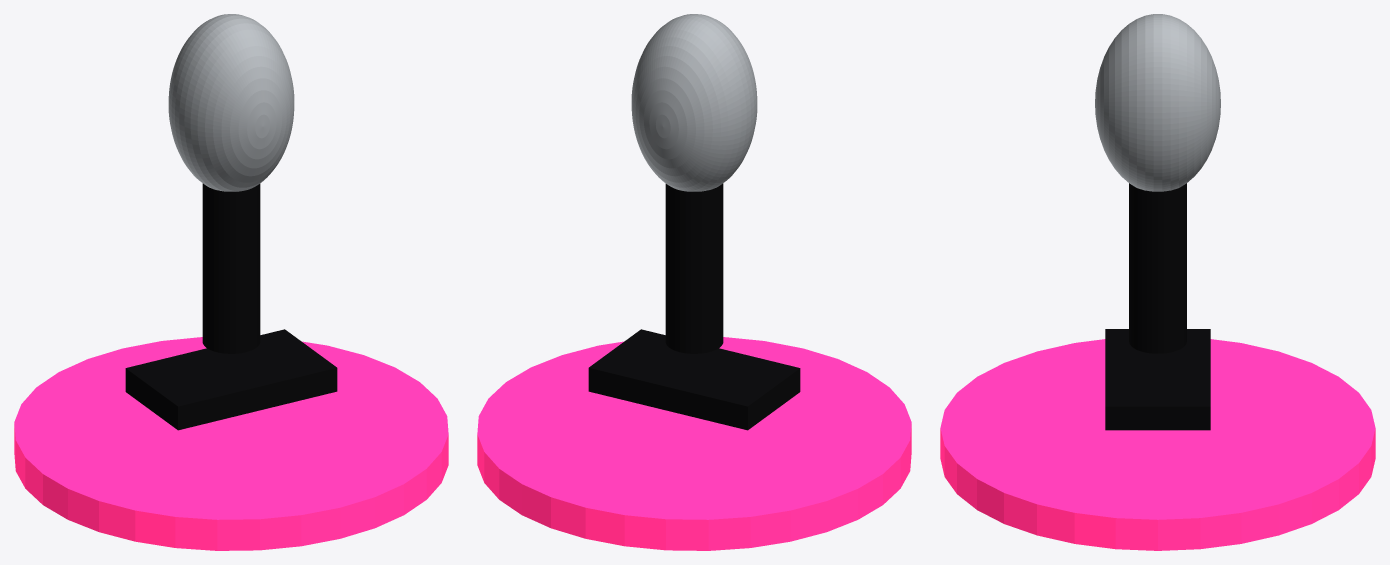
The model's file is music_microphone.dae.
3 views of the same model, side by side, from view 1: azimuth 30°, elevation 25°; view 2: azimuth 150°, elevation 25°; view 3: azimuth 270°, elevation 25° (orthographic).
Visible parts, largest first — view 1: 07_02_Popular_Music_Microphone_ROOT_base, 07_02_Popular_Music_Microphone_part_01, 07_02_Popular_Music_Microphone_part_03, 07_02_Popular_Music_Microphone_part_02; view 2: 07_02_Popular_Music_Microphone_ROOT_base, 07_02_Popular_Music_Microphone_part_01, 07_02_Popular_Music_Microphone_part_03, 07_02_Popular_Music_Microphone_part_02; view 3: 07_02_Popular_Music_Microphone_ROOT_base, 07_02_Popular_Music_Microphone_part_01, 07_02_Popular_Music_Microphone_part_03, 07_02_Popular_Music_Microphone_part_02.
Part boxes in pixels (box(x1,y1,x2,y2)): 07_02_Popular_Music_Microphone_ROOT_base: box(14, 337, 448, 550); 07_02_Popular_Music_Microphone_part_01: box(168, 14, 294, 191); 07_02_Popular_Music_Microphone_part_03: box(125, 329, 337, 430); 07_02_Popular_Music_Microphone_part_02: box(202, 183, 260, 353); 07_02_Popular_Music_Microphone_ROOT_base: box(477, 337, 911, 550); 07_02_Popular_Music_Microphone_part_01: box(631, 14, 757, 191); 07_02_Popular_Music_Microphone_part_03: box(588, 329, 800, 430); 07_02_Popular_Music_Microphone_part_02: box(665, 183, 723, 353); 07_02_Popular_Music_Microphone_ROOT_base: box(940, 339, 1375, 550); 07_02_Popular_Music_Microphone_part_01: box(1095, 14, 1220, 191); 07_02_Popular_Music_Microphone_part_03: box(1105, 329, 1210, 430); 07_02_Popular_Music_Microphone_part_02: box(1129, 183, 1186, 353).
Size of the model in its own units: 0.76 by 0.85 by 0.76.
